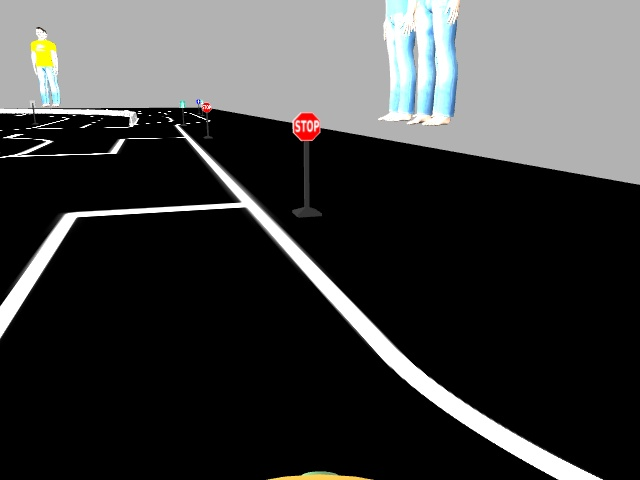Stop: (294, 112, 319, 141), (201, 102, 212, 113)
